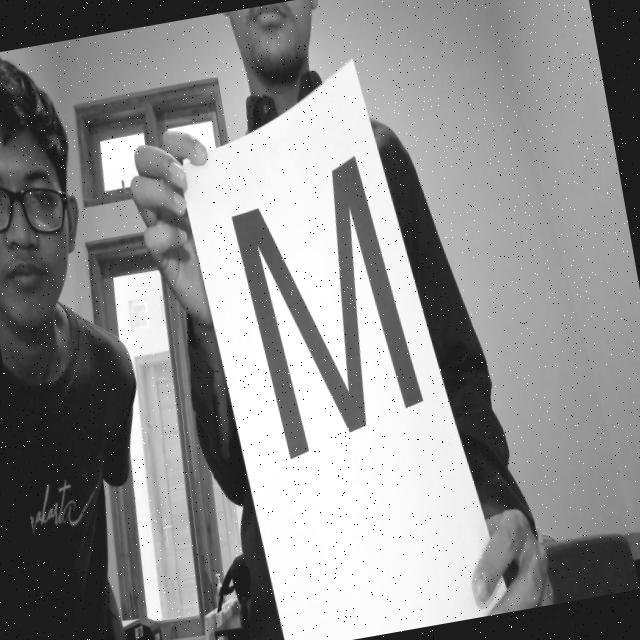m: (204, 143, 441, 483)
